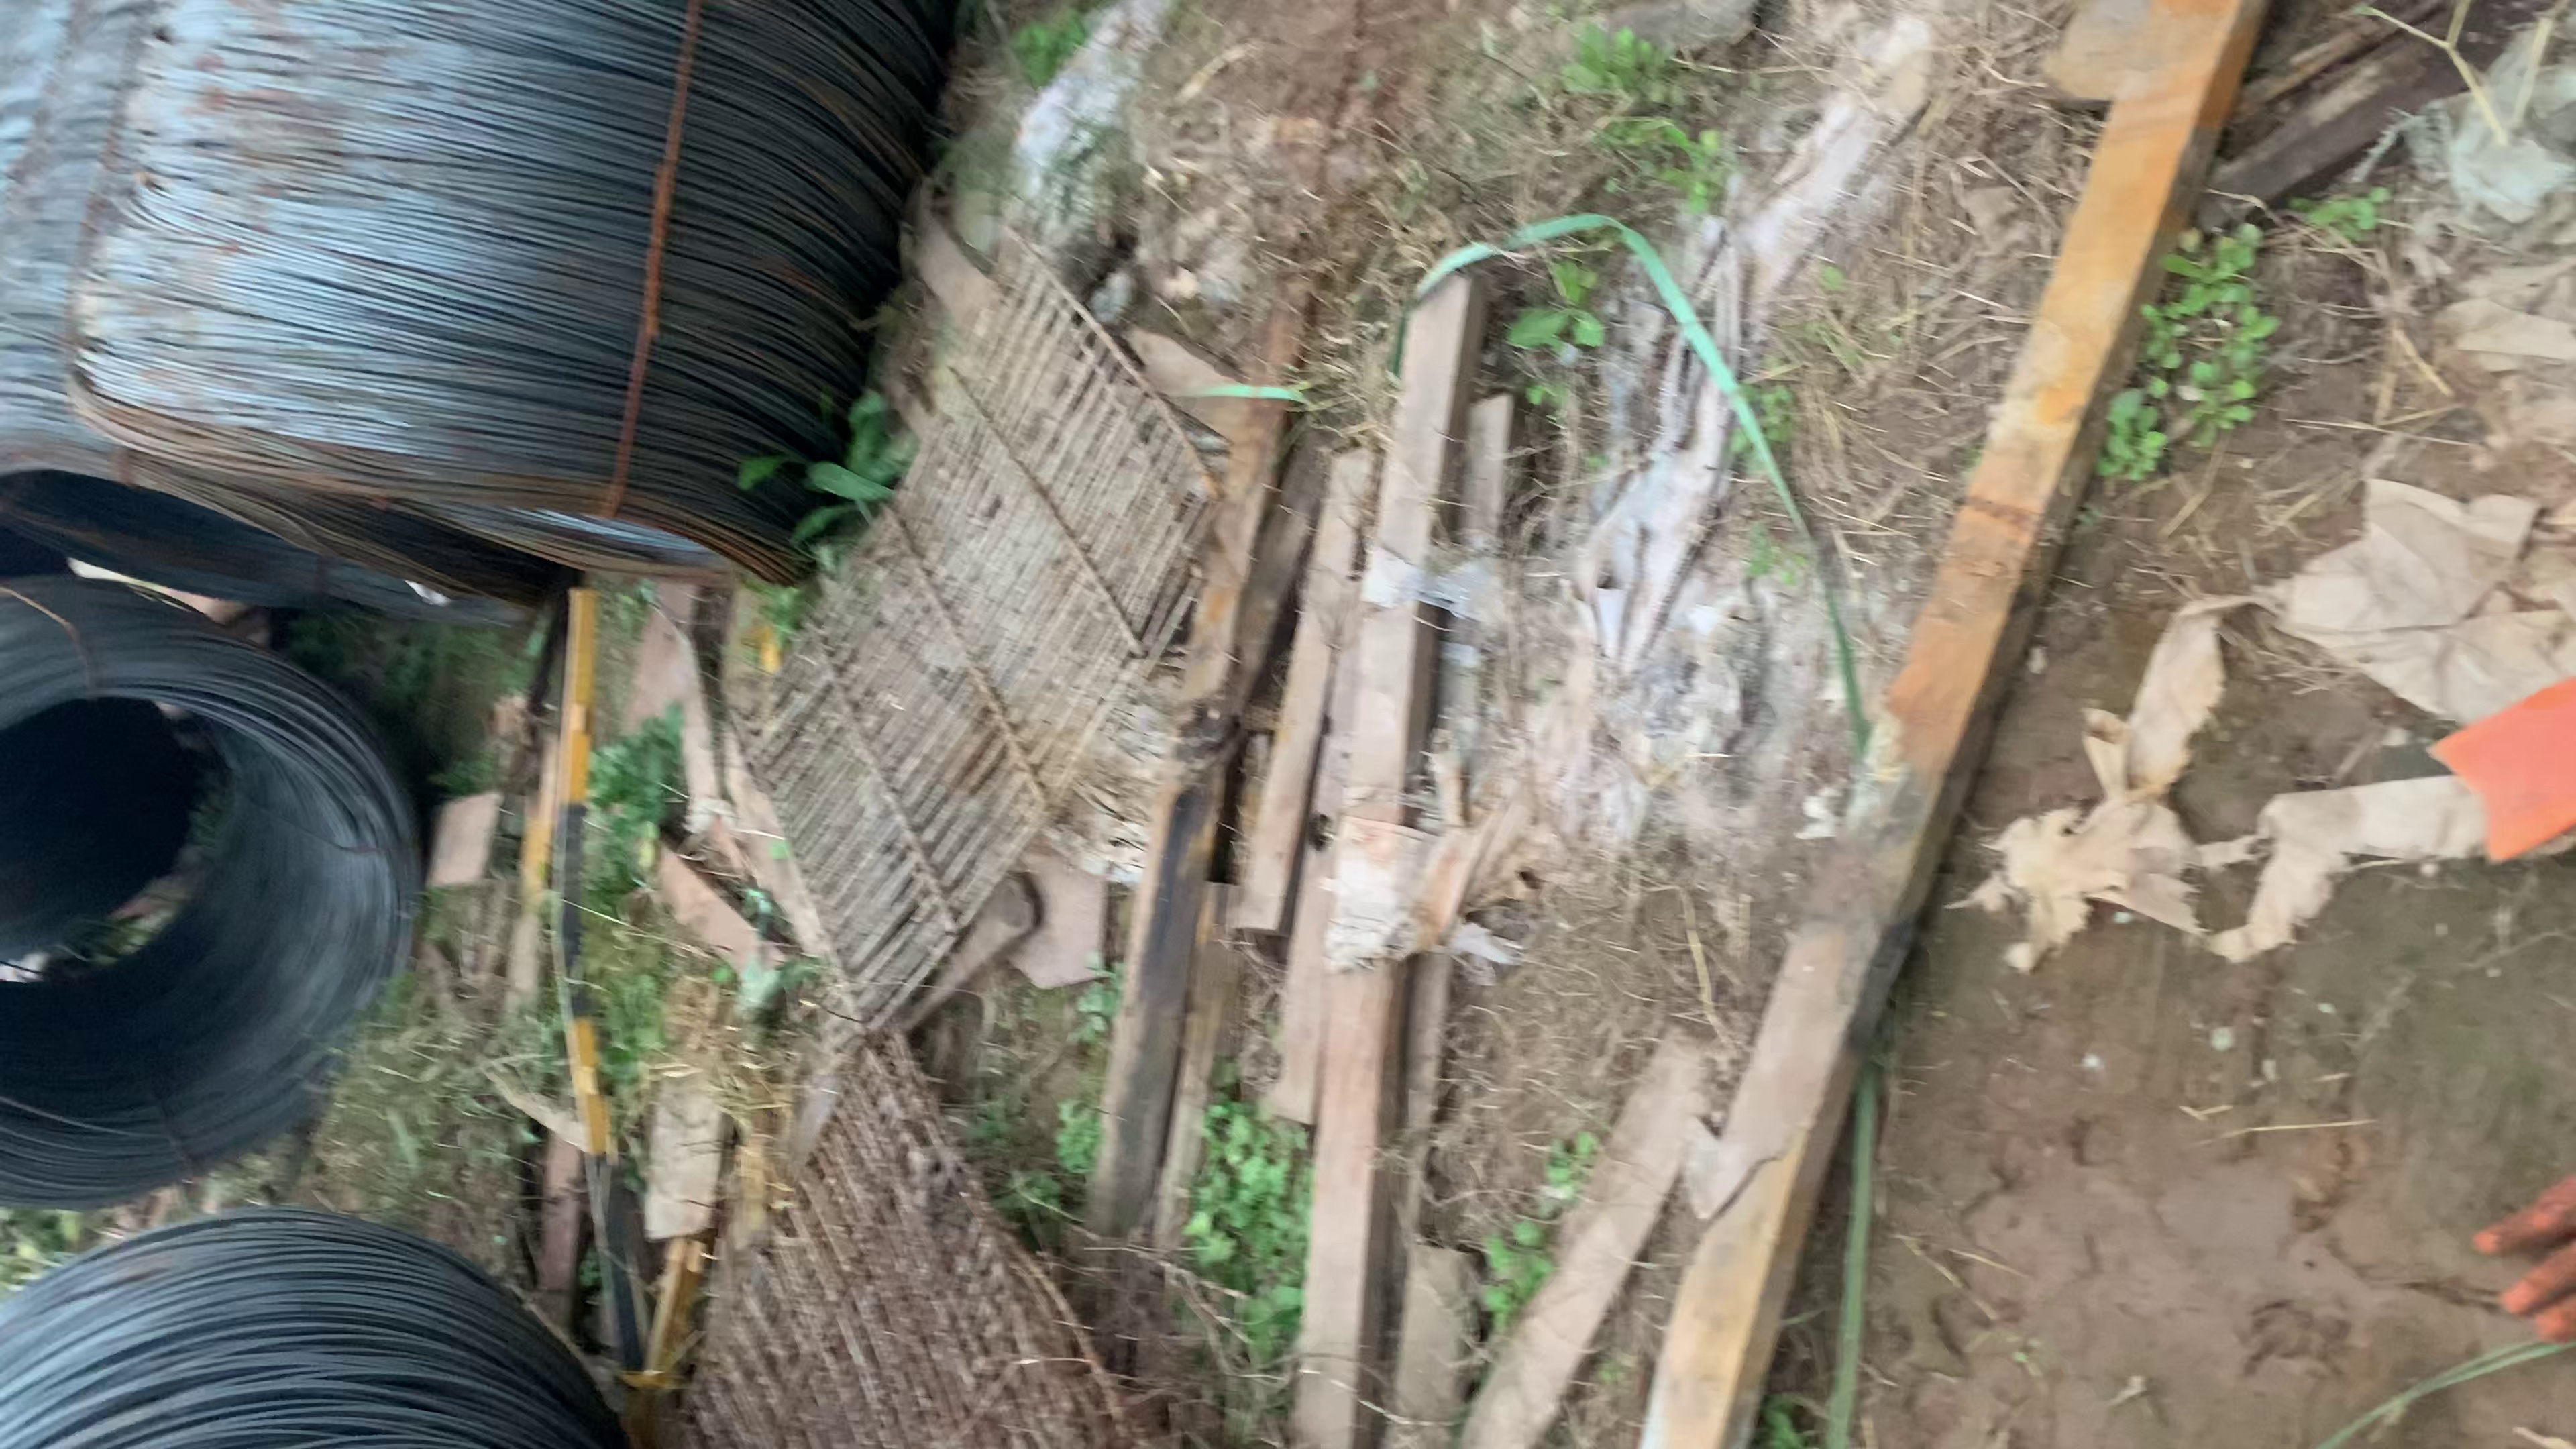coil: (150, 317, 786, 667), (0, 685, 430, 1200), (2, 416, 531, 715)
